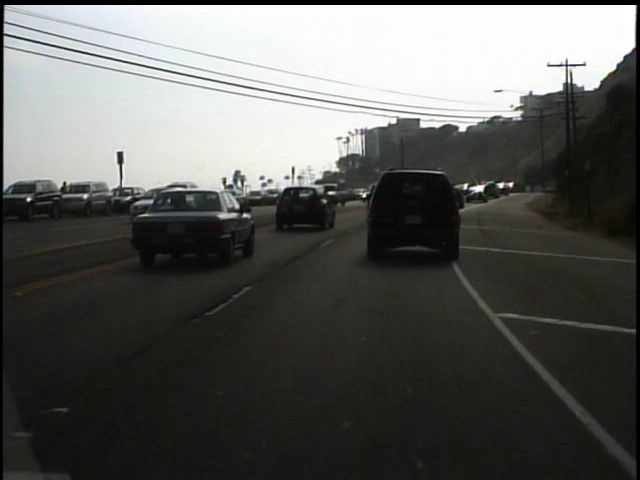person: (62, 178, 79, 193)
